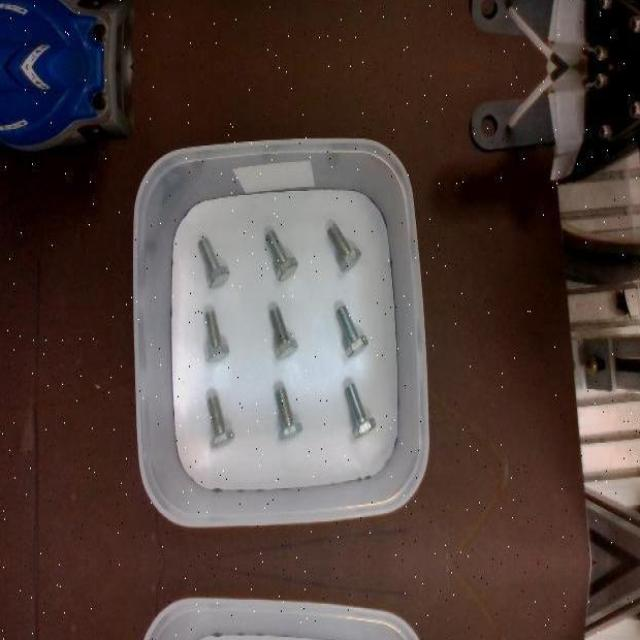screw: (344, 382, 376, 438), (328, 222, 362, 273), (198, 236, 230, 288), (336, 304, 368, 356), (266, 230, 298, 281), (274, 386, 304, 440), (270, 307, 298, 360), (208, 394, 235, 448), (202, 310, 229, 360)
